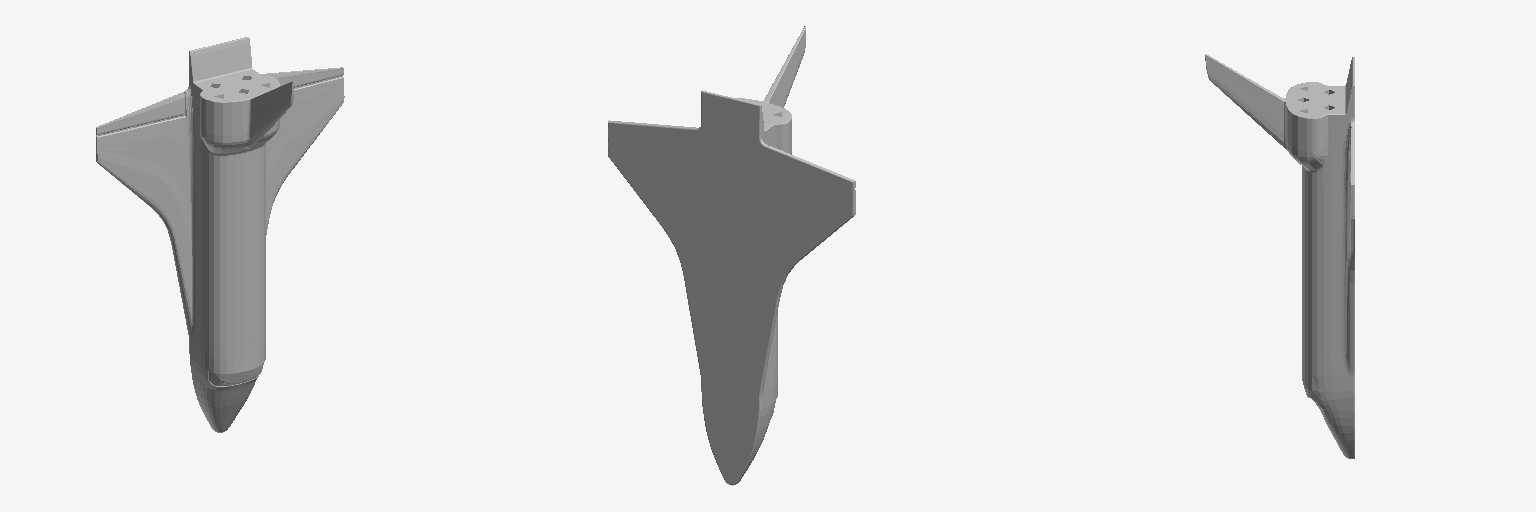
The model's file is shuttle.obj.
The picture shows the model from 3 angles: view 1: azimuth 30°, elevation 25°; view 2: azimuth 150°, elevation 25°; view 3: azimuth 270°, elevation 25°; orthographic projection.
Visible parts, largest first — view 1: Object.1; view 2: Object.1; view 3: Object.1.
Part boxes in pixels (x1,y1,x2,y2): Object.1: (96,37,344,432); Object.1: (608,26,855,485); Object.1: (1205,54,1354,458).
Bounding box in the file's own units: 75.31 × 118 × 39.73.